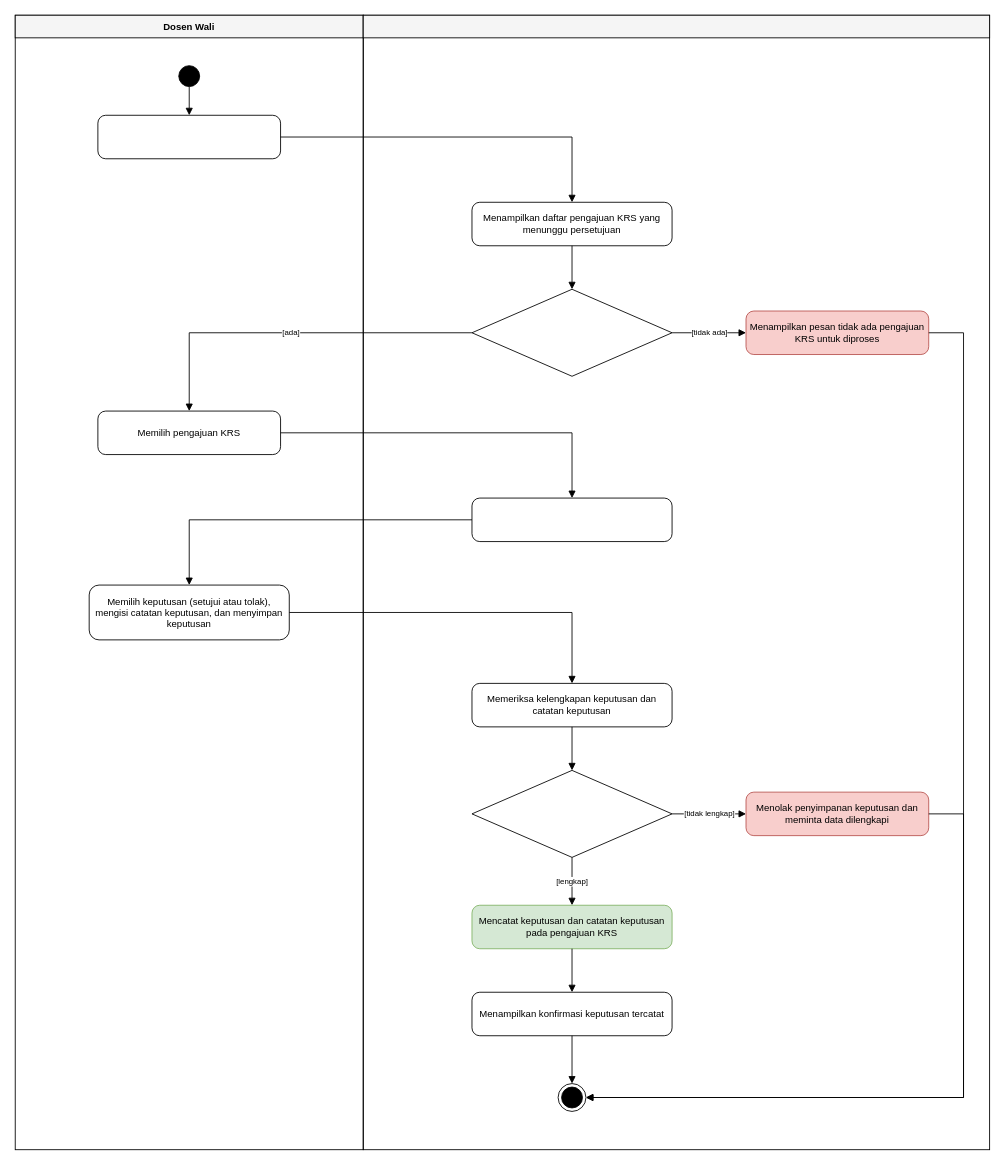
The diagram is 1005 pixels wide and 1165 high, and some of its shapes have lost their labels. Each missing label, with the centre of its shape:
Ada pengajuan KRS yang menunggu?: point 571,332
Keputusan dan catatan lengkap?: point 571,813
Membuka fungsi Proses Keputusan KRS: point 189,136
Menampilkan rincian pengajuan KRS: point 571,519
Sistem: point 676,26
